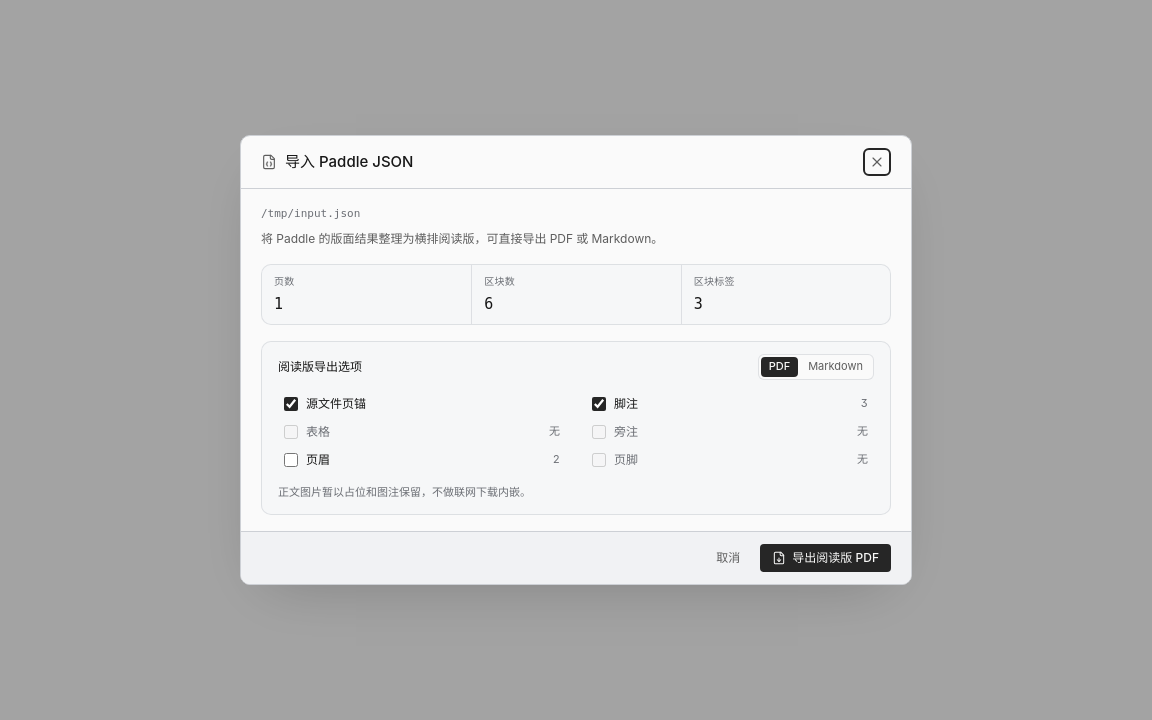
it: PaddleJsonImportDialog export feedback › expands concrete export warnings
Expected: the text "阅读版导出选项" is shown, [278,357,362,377]
Click the button "导出阅读版 PDF" at (826, 558), box [760,544,891,572]
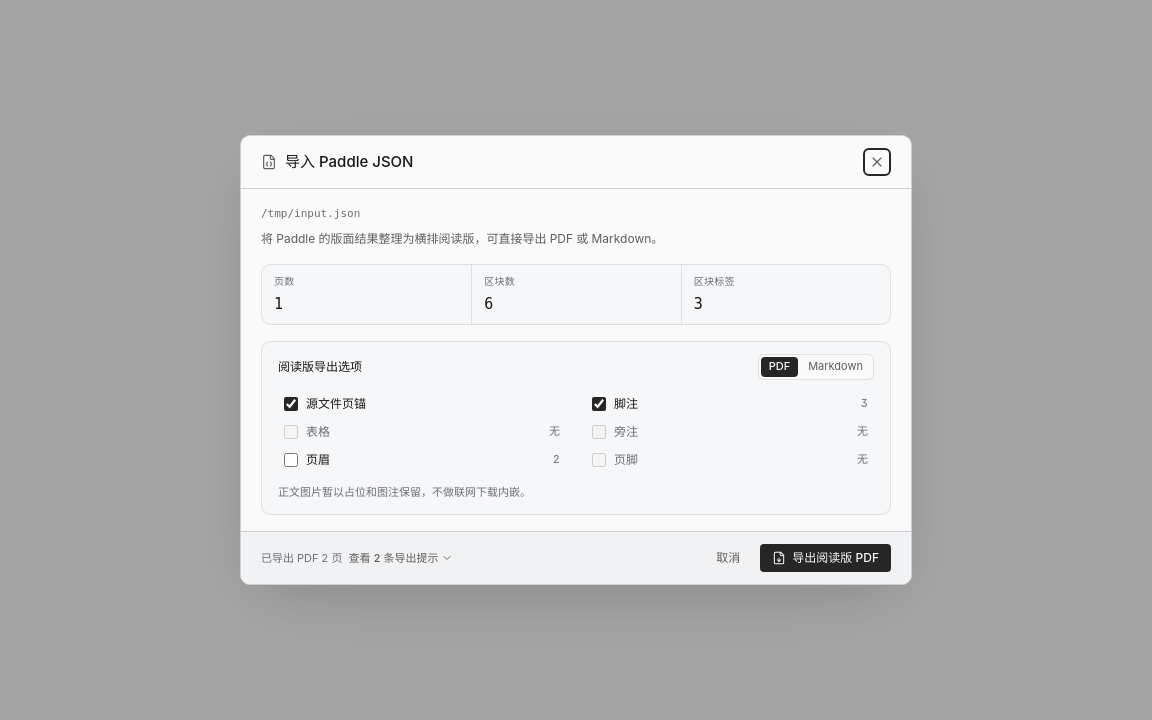
Now the text "已导出 PDF 2 页" is shown, box [261,550,342,566]
Click the button "查看 2 条导出提示" at (400, 558), box [348,550,452,566]
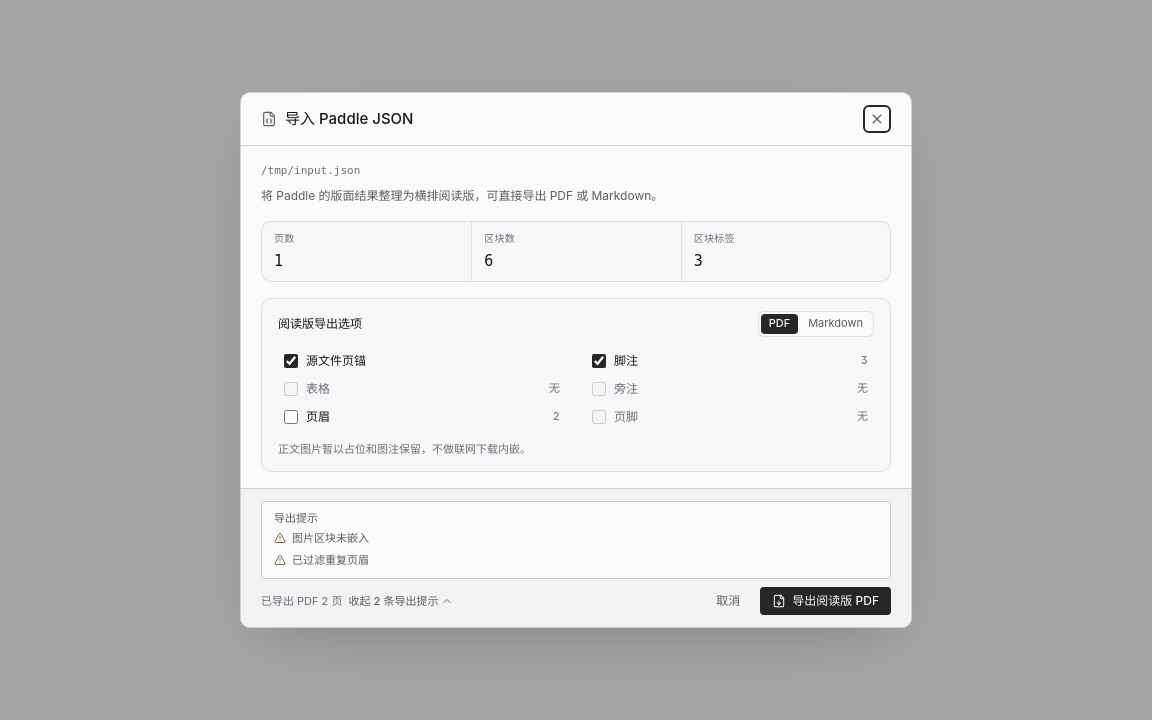
Now the text "图片区块未嵌入" is shown, box [292,530,369,548]
Now the text "已过滤重复页眉" is shown, box [292,552,369,570]
Now the button "收起 2 条导出提示" is expanded, box [348,593,452,609]
